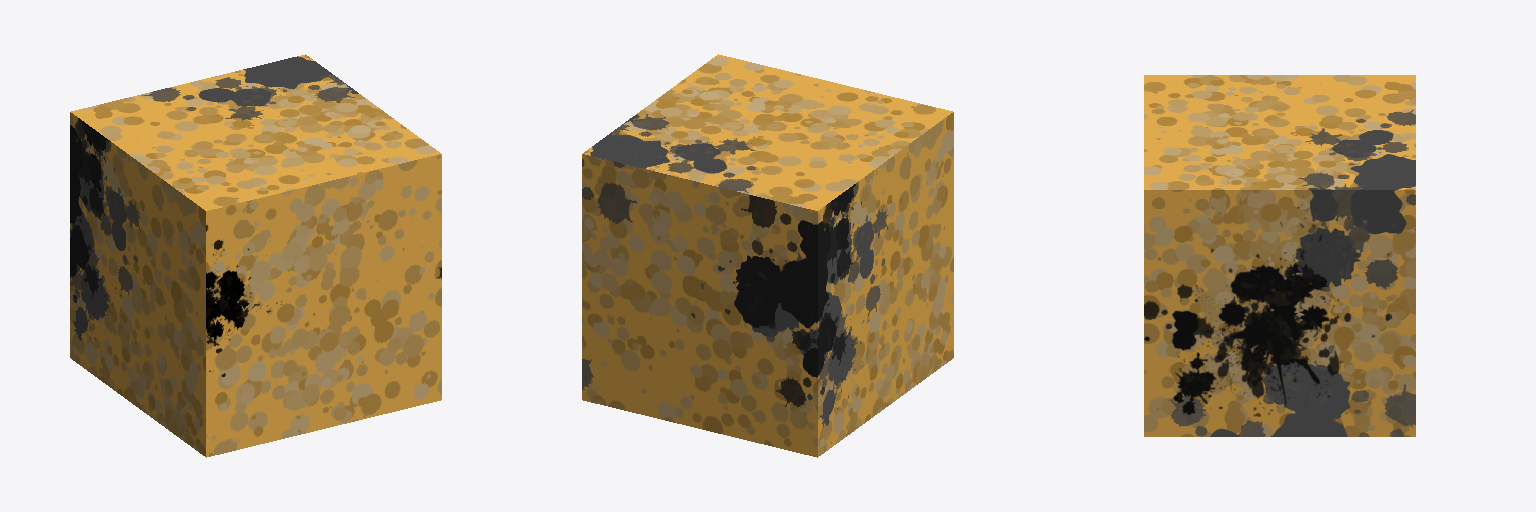
3 views of the same model, side by side, from view 1: azimuth 30°, elevation 25°; view 2: azimuth 150°, elevation 25°; view 3: azimuth 270°, elevation 25° (orthographic).
Parts seen in each view (by area): view 1: Cube; view 2: Cube; view 3: Cube.
Boxes of the visible parts, <box> form: Cube: <box>70,54,441,457</box>; Cube: <box>582,54,953,457</box>; Cube: <box>1144,75,1415,436</box>.
Bounding box in the file's own units: 1 × 1 × 1.
1 materials, 1 textured.